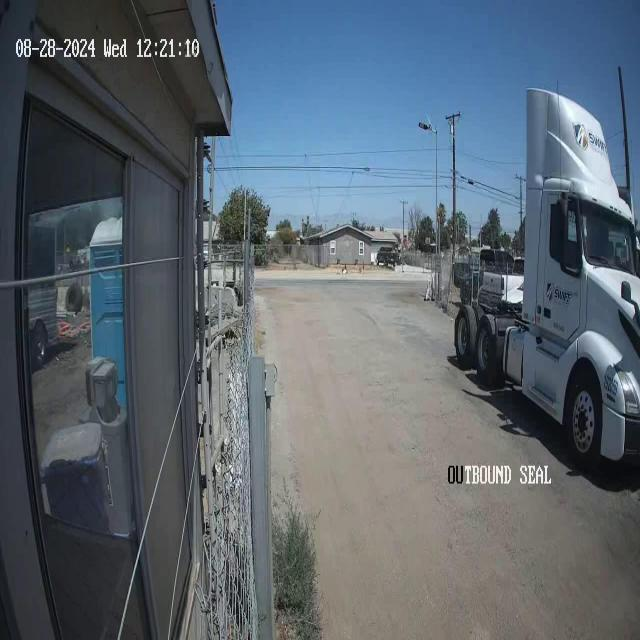TRUCK_IN: (453, 83, 639, 473)
